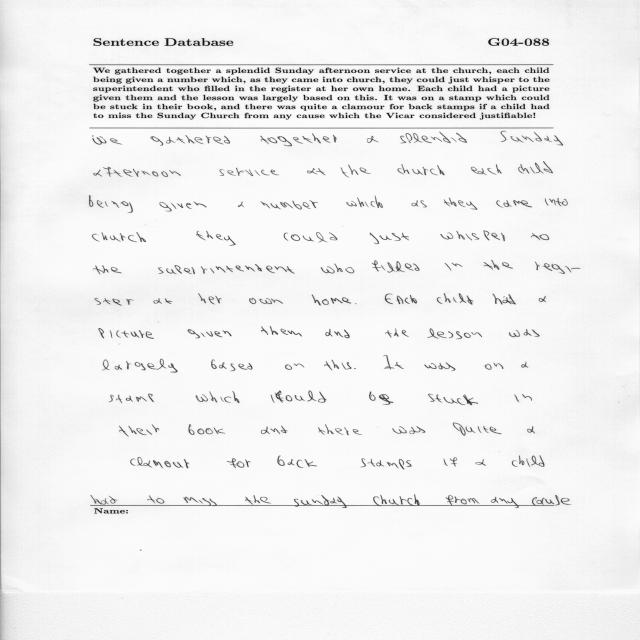word: (158, 264, 295, 274), (91, 495, 217, 505), (103, 359, 178, 373), (260, 134, 337, 147), (94, 167, 181, 177), (151, 135, 230, 146), (501, 131, 563, 145), (89, 195, 133, 213), (400, 132, 467, 143), (271, 391, 327, 403), (245, 495, 312, 505), (440, 231, 505, 241), (507, 495, 571, 505), (131, 457, 189, 468), (453, 423, 502, 436), (372, 260, 420, 273), (99, 328, 154, 339), (428, 328, 482, 339), (284, 232, 337, 243), (360, 459, 412, 470), (428, 394, 478, 405), (92, 232, 146, 242), (535, 262, 580, 274), (196, 391, 240, 403), (261, 201, 319, 210), (398, 164, 445, 175), (211, 360, 253, 372), (318, 425, 362, 436), (346, 195, 383, 208), (120, 425, 160, 437), (277, 456, 317, 468), (220, 168, 279, 176), (160, 202, 207, 212), (518, 161, 553, 174), (261, 326, 302, 337), (206, 231, 236, 246), (109, 394, 154, 404), (370, 233, 409, 244), (312, 295, 351, 306), (455, 497, 508, 505), (444, 198, 477, 210), (437, 294, 473, 305), (188, 330, 232, 339), (189, 424, 225, 435), (341, 165, 371, 178), (512, 456, 545, 467), (369, 391, 394, 405), (312, 495, 346, 505), (321, 264, 354, 274), (385, 294, 417, 304), (95, 298, 134, 306), (384, 355, 404, 370), (484, 260, 513, 270), (496, 200, 532, 208), (94, 265, 122, 275), (324, 360, 352, 370), (392, 426, 426, 434), (198, 294, 222, 305), (93, 136, 122, 145), (493, 294, 516, 305), (425, 363, 456, 371), (385, 328, 409, 338), (509, 329, 539, 337), (227, 458, 250, 468), (325, 329, 350, 338), (249, 298, 283, 304), (400, 495, 420, 505), (380, 495, 399, 505), (545, 198, 568, 206), (445, 263, 463, 271), (514, 394, 532, 402), (270, 426, 288, 434), (488, 165, 502, 175), (307, 168, 326, 175), (285, 363, 304, 370), (485, 363, 504, 370), (444, 457, 457, 467), (471, 167, 487, 175), (531, 233, 549, 240), (154, 298, 172, 304), (196, 231, 206, 240), (367, 136, 379, 143), (475, 459, 486, 466), (446, 495, 453, 505), (527, 426, 535, 434), (261, 427, 270, 434), (373, 497, 380, 505), (412, 200, 418, 207), (421, 201, 427, 208), (539, 296, 546, 302), (522, 362, 529, 368), (238, 202, 244, 208), (355, 303, 357, 304), (354, 368, 356, 369)
